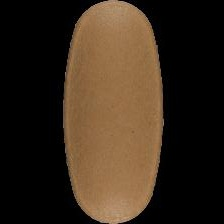68151-2640: (0, 0, 224, 224)
